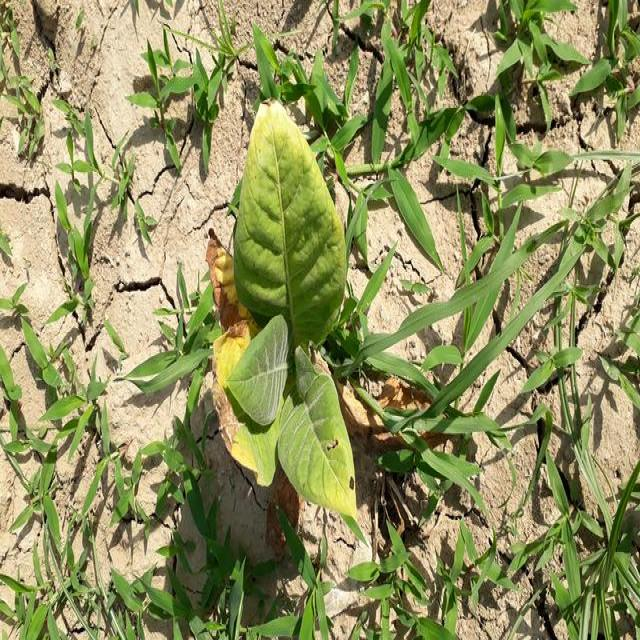crop: (213, 100, 364, 515)
